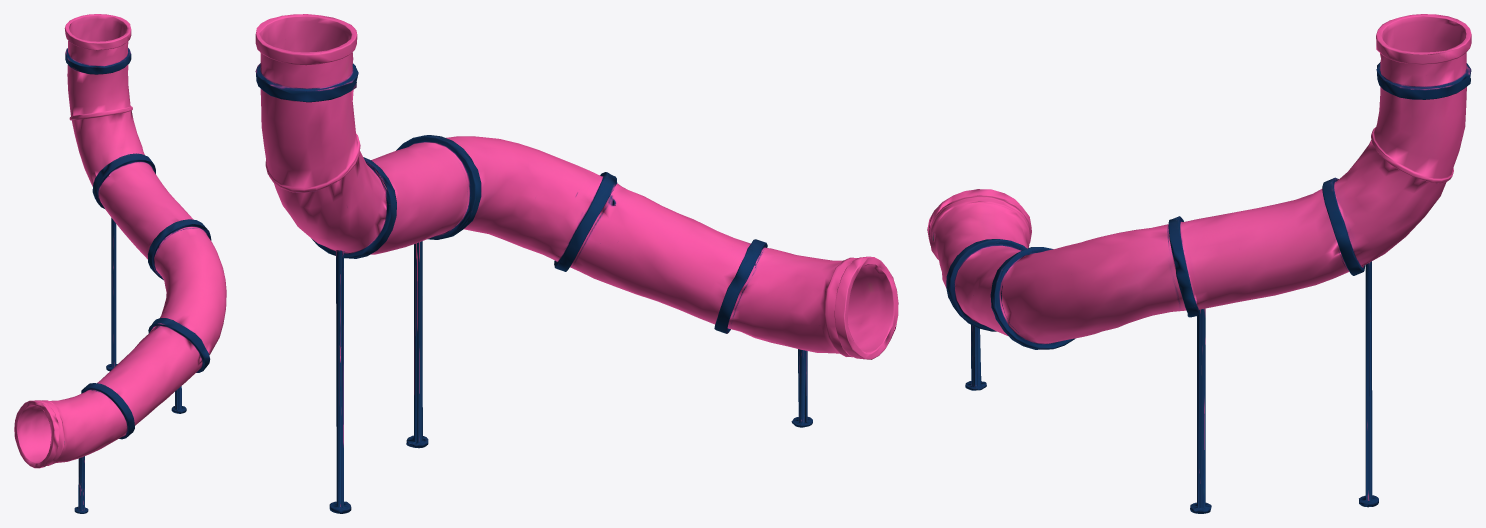
Rendered from slide.fbx.
3 views of the same model, side by side, from view 1: azimuth 30°, elevation 25°; view 2: azimuth 150°, elevation 25°; view 3: azimuth 270°, elevation 25° (orthographic). The views are drawn at different scales.
Visible parts, largest first — view 1: Mesh_0; view 2: Mesh_0; view 3: Mesh_0.
Boxes of the visible parts, x1,y1,x2,y2 form: Mesh_0: (14, 14, 226, 513); Mesh_0: (255, 14, 898, 513); Mesh_0: (927, 14, 1471, 513).
Size of the model in its own units: 73.24 by 90.72 by 94.38.
Materials: 1 (1 with a texture image).
